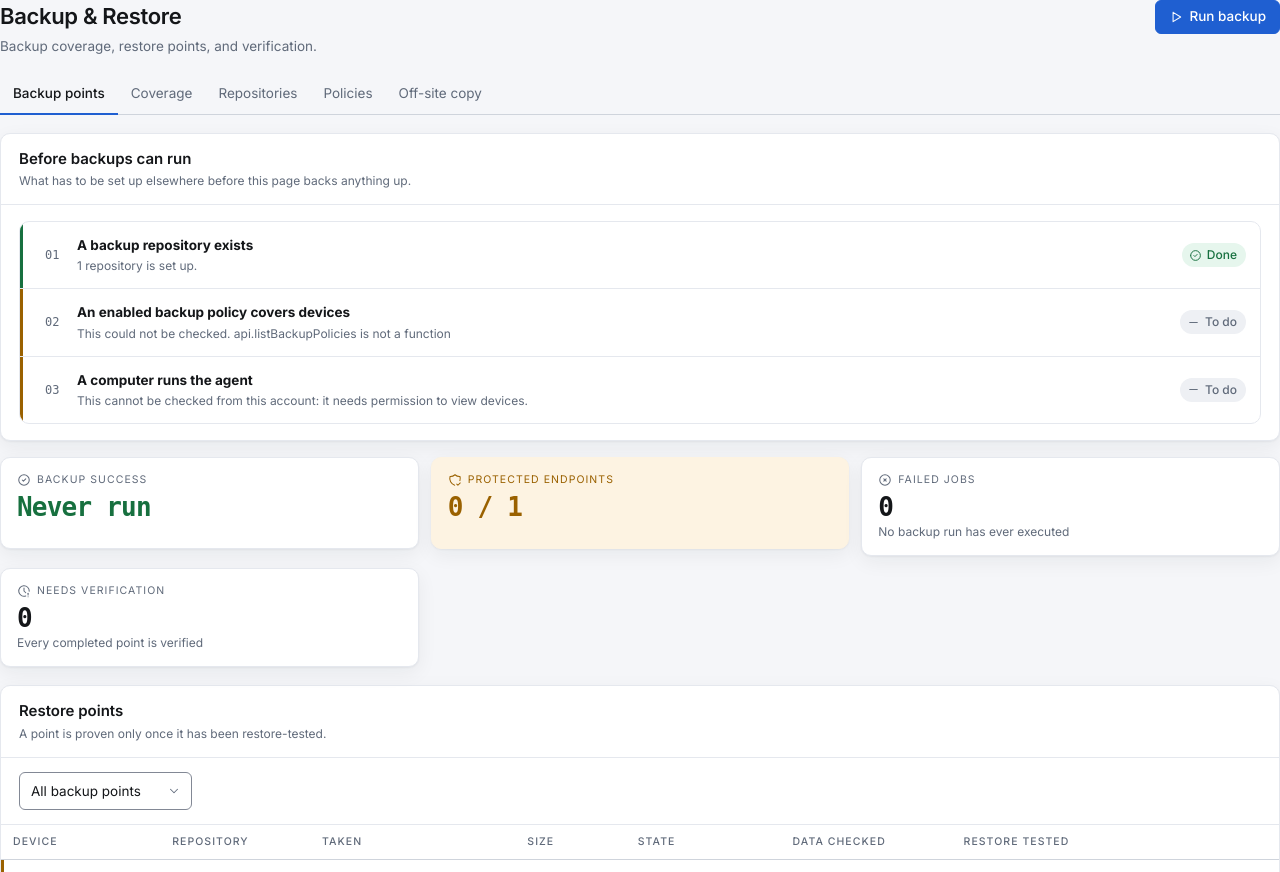
BackupPointsPage › keeps the run form in a dialog rather than in the page head
Click the button "Run backup" at (1218, 17), box [1156,0,1279,34]
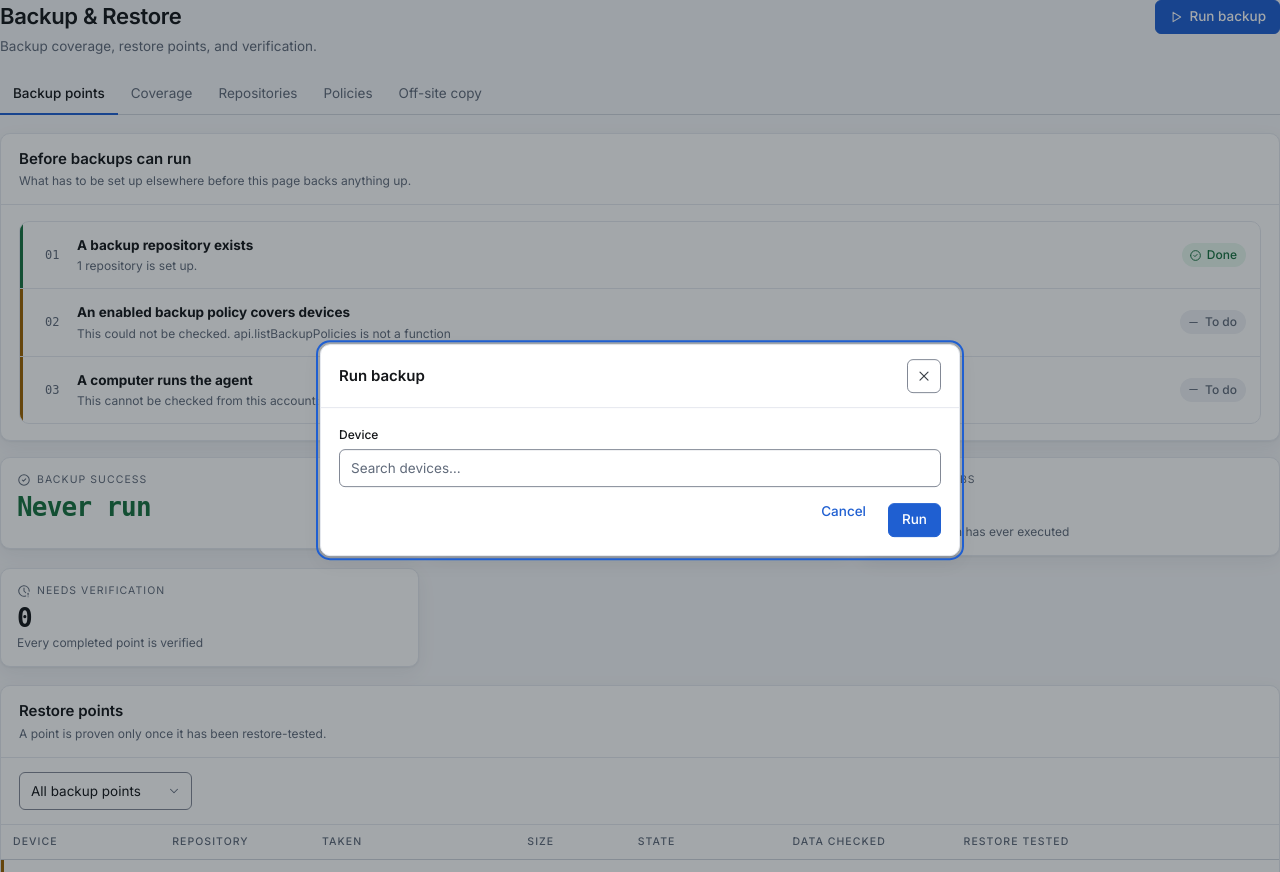
Expected: the dropdown labelled "Device" is shown, [339,449,941,487]
Expected: the button "Run" is enabled, [888,503,941,537]
